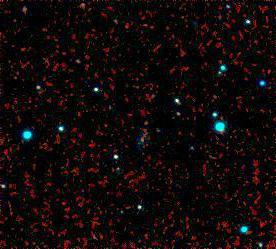star: (131, 110, 161, 140)
